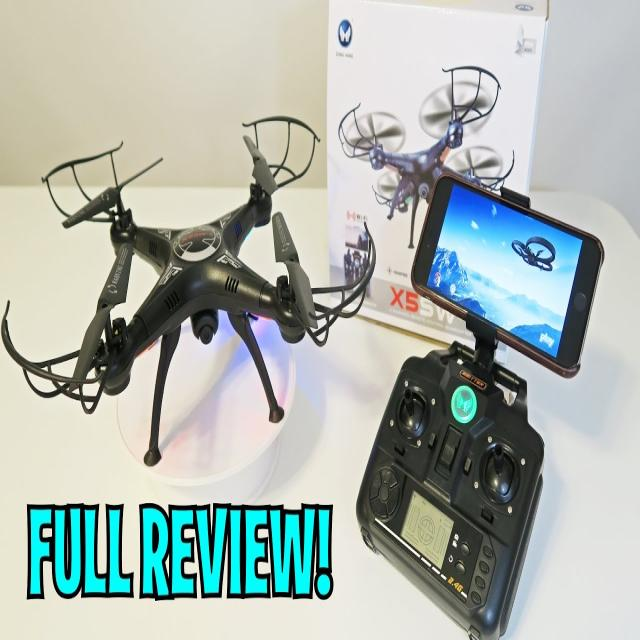drone: (6, 100, 378, 452)
